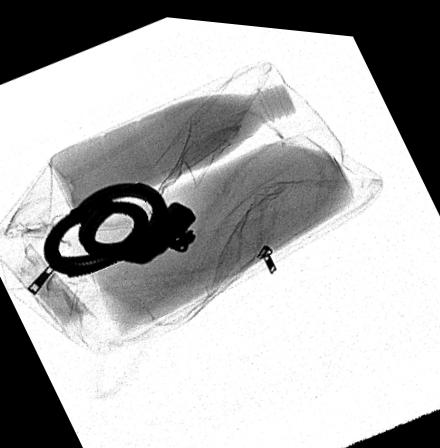HandCuffs: (43, 180, 198, 276)
